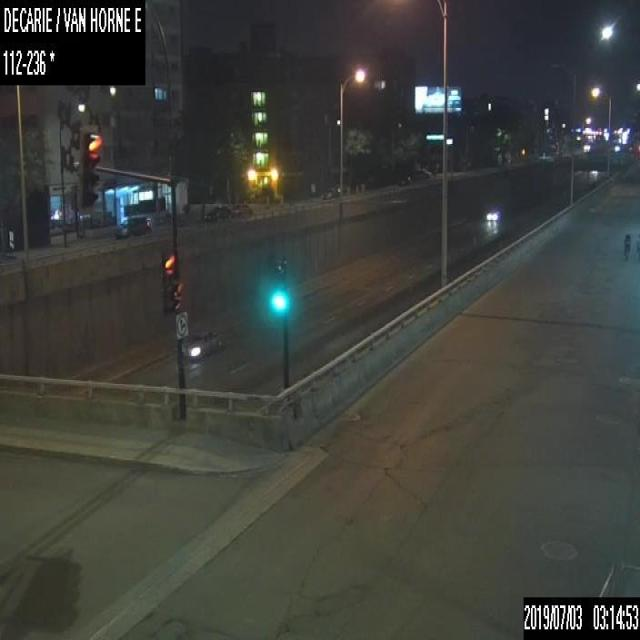cyclist: (622, 232, 630, 260)
vehicle: (178, 328, 219, 360), (115, 215, 152, 237), (202, 205, 228, 221), (229, 203, 253, 218), (486, 208, 501, 222)
